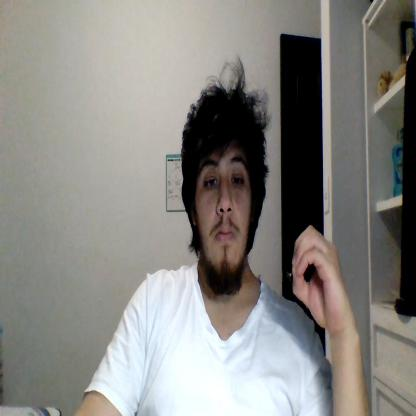O: (292, 227, 346, 326)
